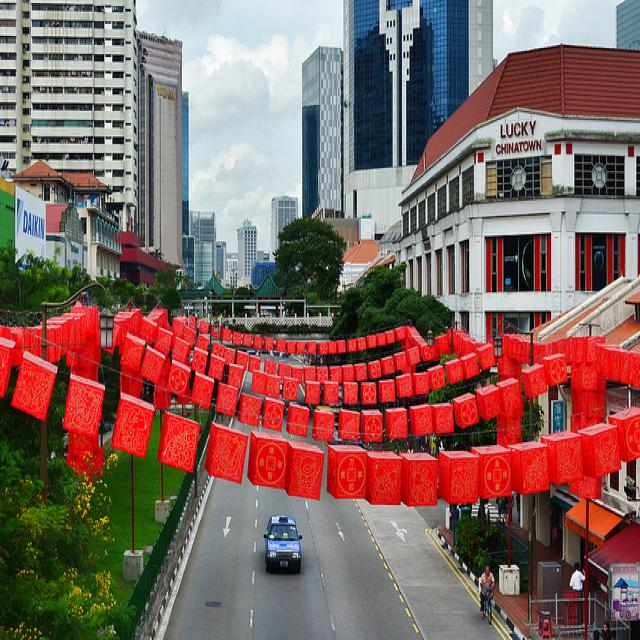Vehicle: (264, 514, 303, 571), (247, 349, 256, 355)
